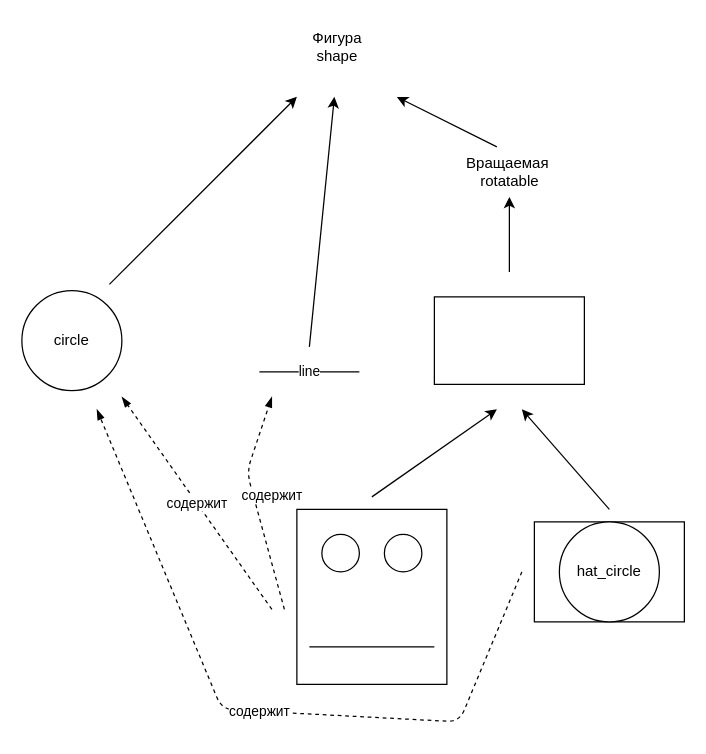
The diagram is 706 pixels wide and 754 high, and some of its shapes have lost their labels. The box of each missing label's shape, as (x1, y1, x2, y2) in pixels:
+ face: (296, 508, 447, 684)
rectangle: (433, 296, 584, 384)
